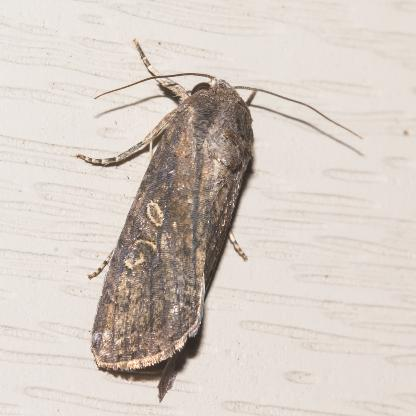Fall Armyworm Moth: (73, 36, 365, 406)
